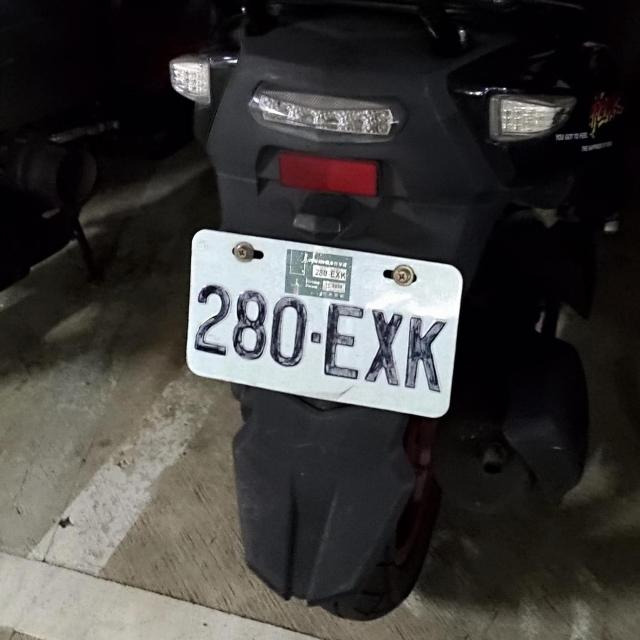W: (174, 223, 475, 425)
